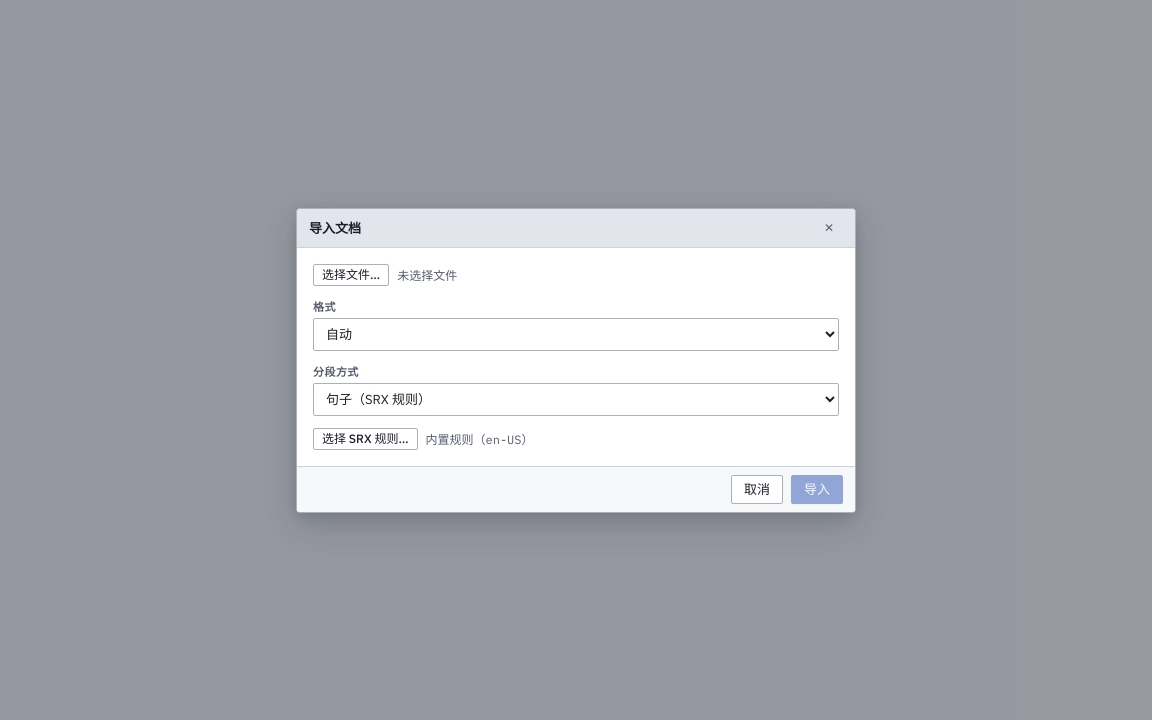
Scenario: ImportDocumentDialog › stays open with an honest warning when the defaults save fails
The image size is (1152, 720).
Click the button "选择文件…" at x=351, y=274, box [313,264,389,286]
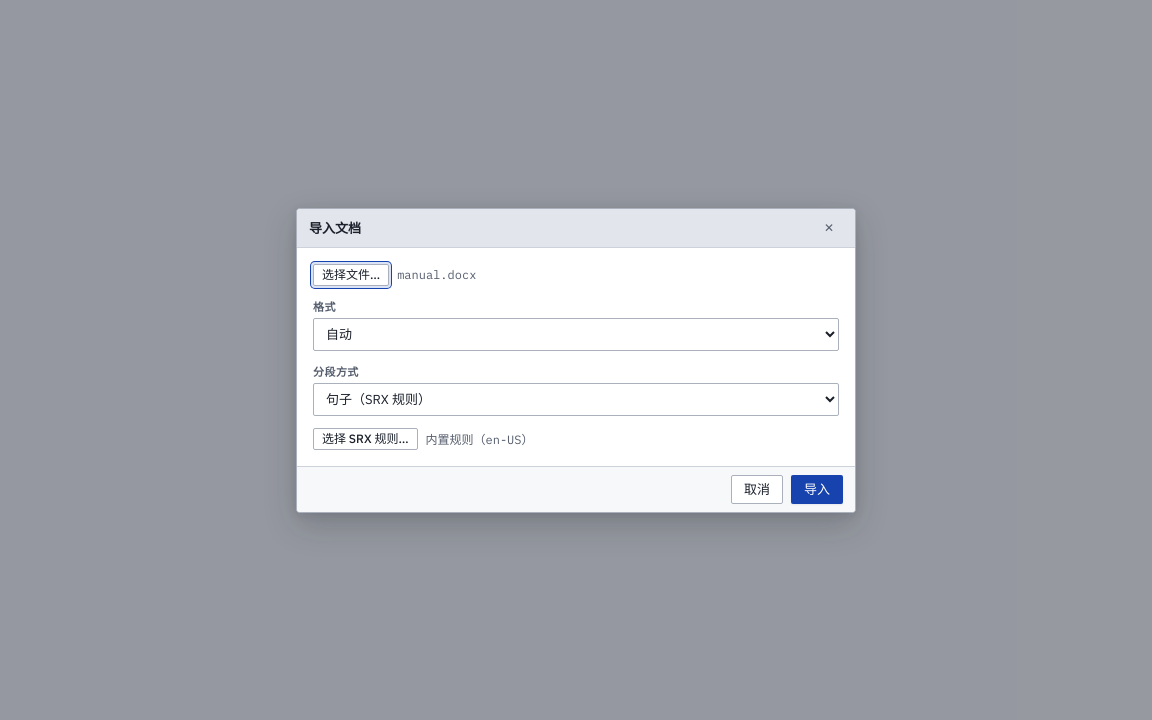
Click the button "导入" at x=817, y=489, box [791,474,843,504]
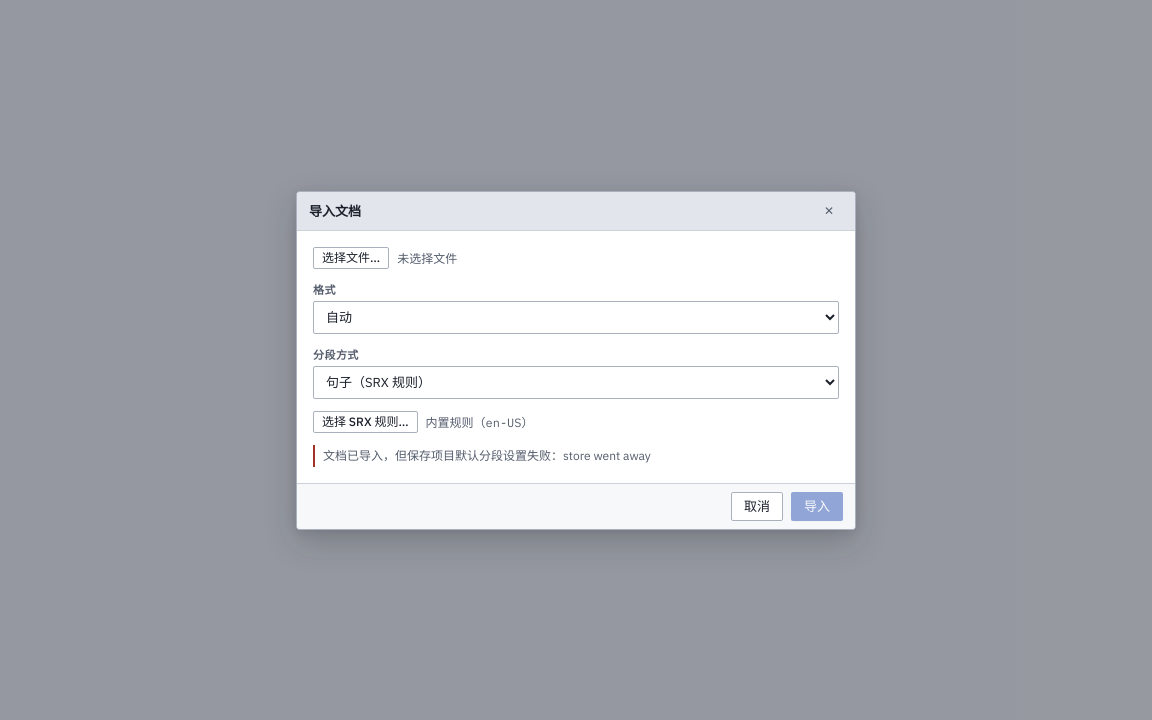
Expected: the message shows "文档已导入，但保存项目默认分段设置失败", [323,448,651,462]
